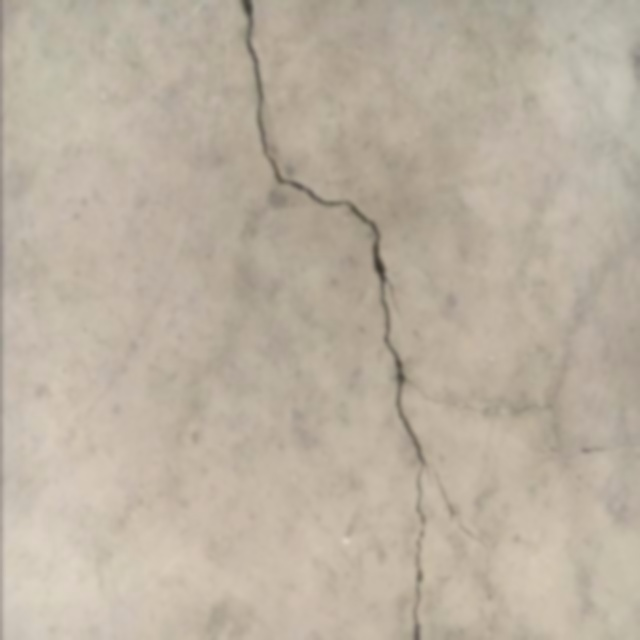SurfaceCrack: (200, 0, 486, 639)
